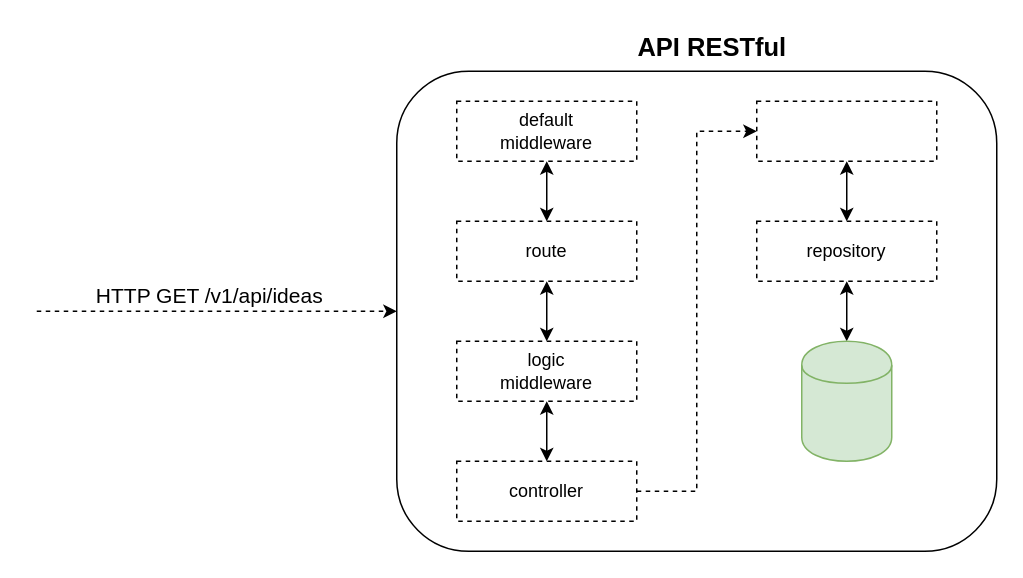
The diagram is 1023 pixels wide and 578 high, and some of its shapes have lost their labels. The centre of each missing label's shape, as x and y in pixels:
"DB" goes at point (846, 400).
"service" goes at point (846, 130).
